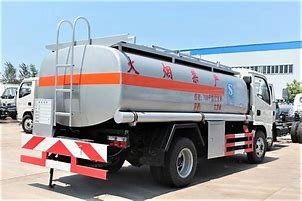oil truck: (24, 21, 278, 183)
